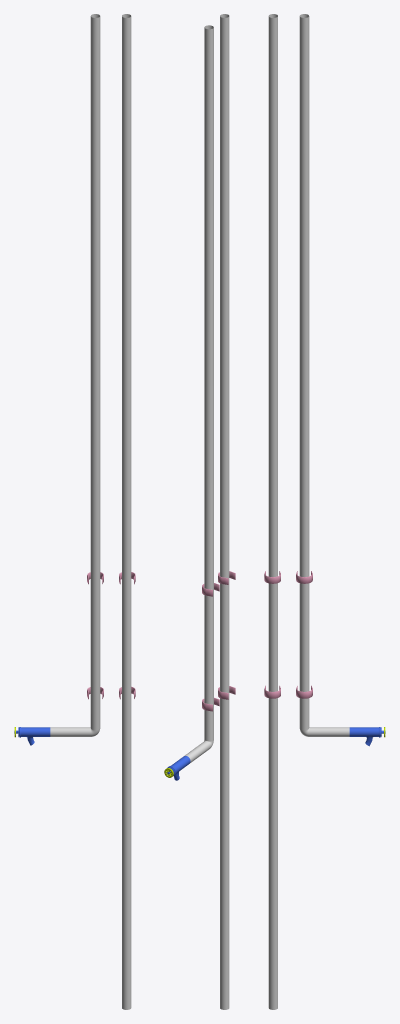
Rendered from Truby.fbx.
3 views of the same model, side by side, from view 1: azimuth 90°, elevation 25°; view 2: azimuth 150°, elevation 25°; view 3: azimuth 270°, elevation 25° (orthographic).
Visible parts, largest first — view 1: Circle; view 2: Circle; view 3: Circle.
Part boxes in pixels (box(x1,y1,x2,y2)): Circle: box(14, 14, 135, 1009); Circle: box(164, 14, 235, 1009); Circle: box(264, 14, 385, 1009).
Bounding box in the file's own units: 9.31 × 669 × 74.16.
